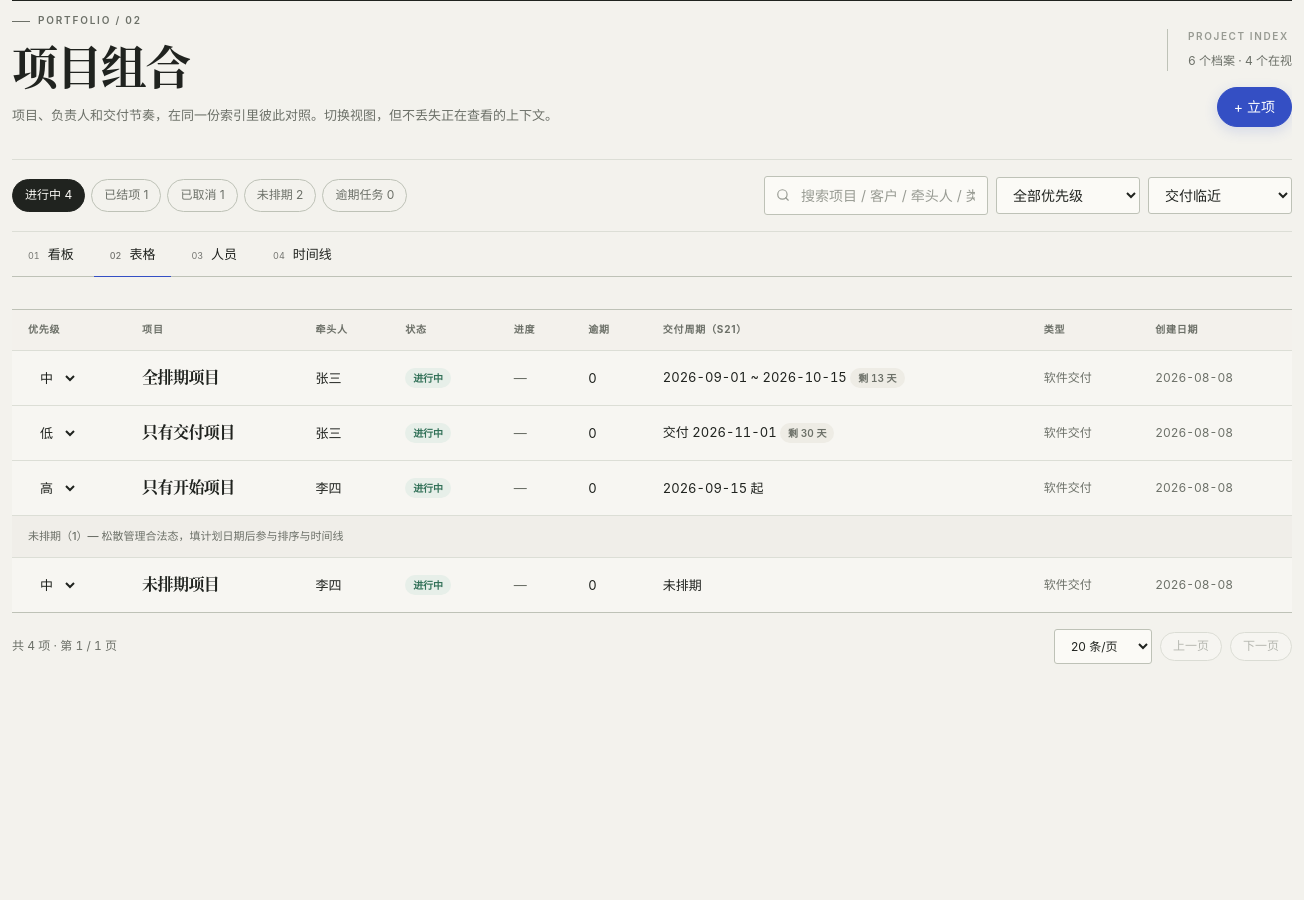
Test: S30 项目组合页（v0.29） › S30-7: 分页器与搜索——服务端分页计数、去抖后带 q 重查
Expected: the link "全排期项目" is shown, [142, 365, 219, 388]
Expected: the element with test id "portfolio-pager" shows "共 4 项", [12, 629, 1292, 664]
// 搜索：输入后 300ms 去抖带 q 重查
Type "全排期" into the field labelled "搜索" at (876, 195), box [764, 176, 988, 215]
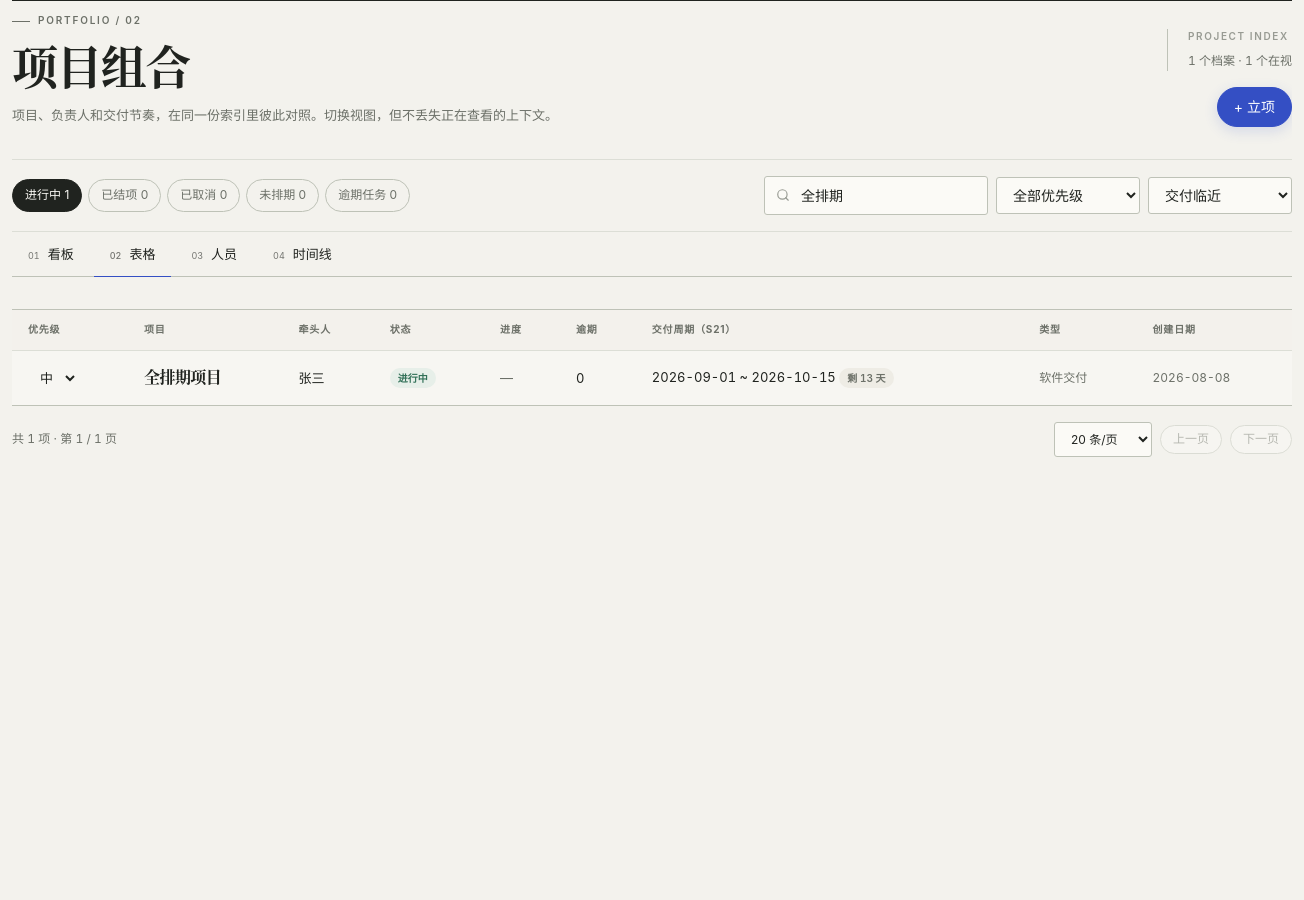
Expected: the link "只有交付项目" is gone
Expected: the element with test id "portfolio-pager" shows "共 1 项", [12, 422, 1292, 457]
